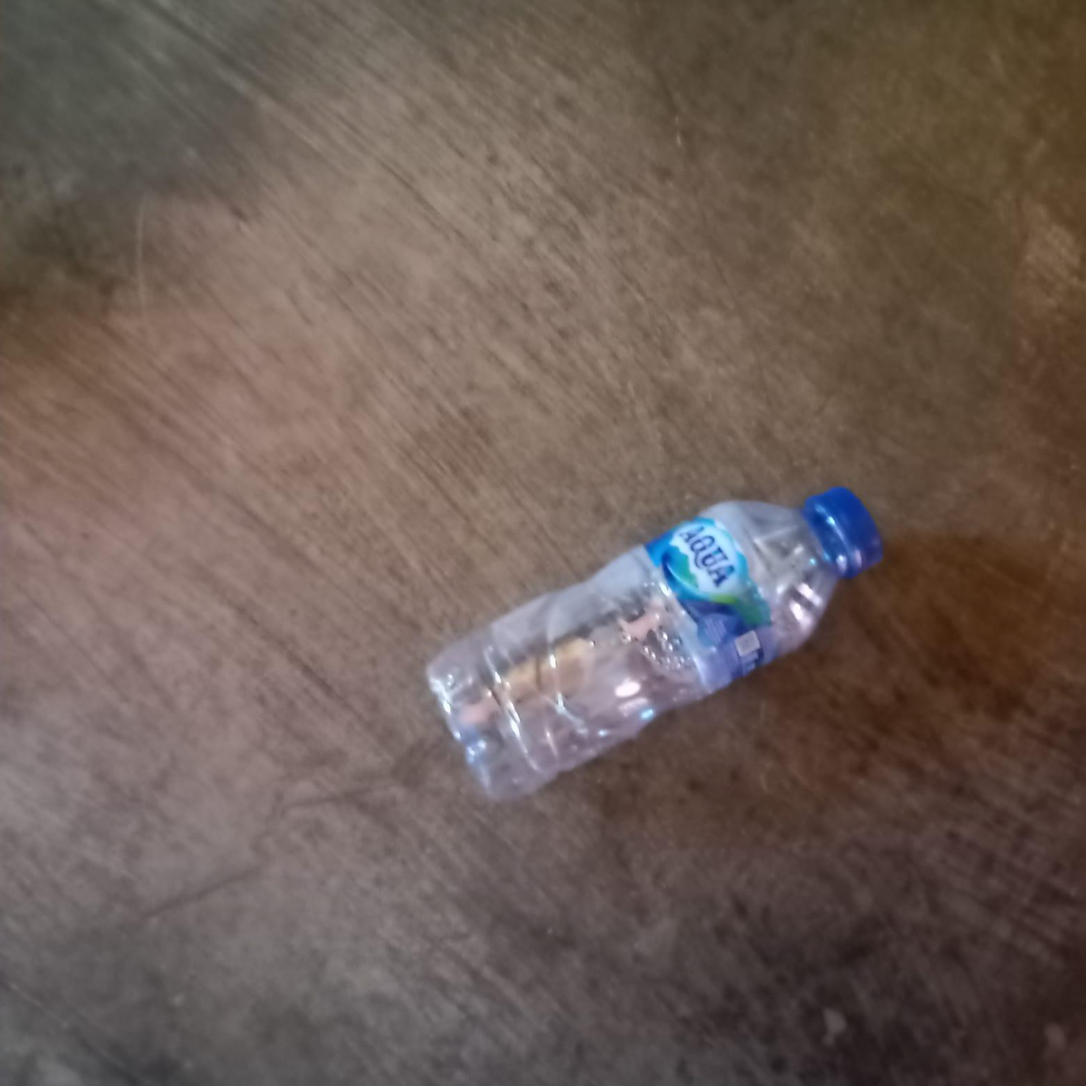Plastik: (422, 461, 893, 801)
